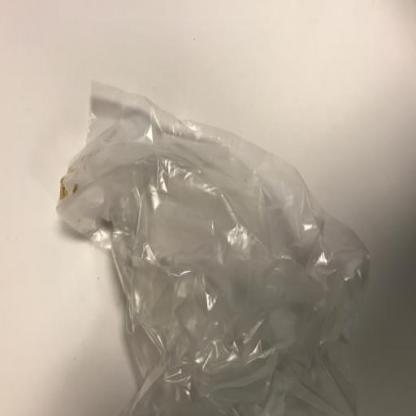trash: (57, 79, 370, 416)
